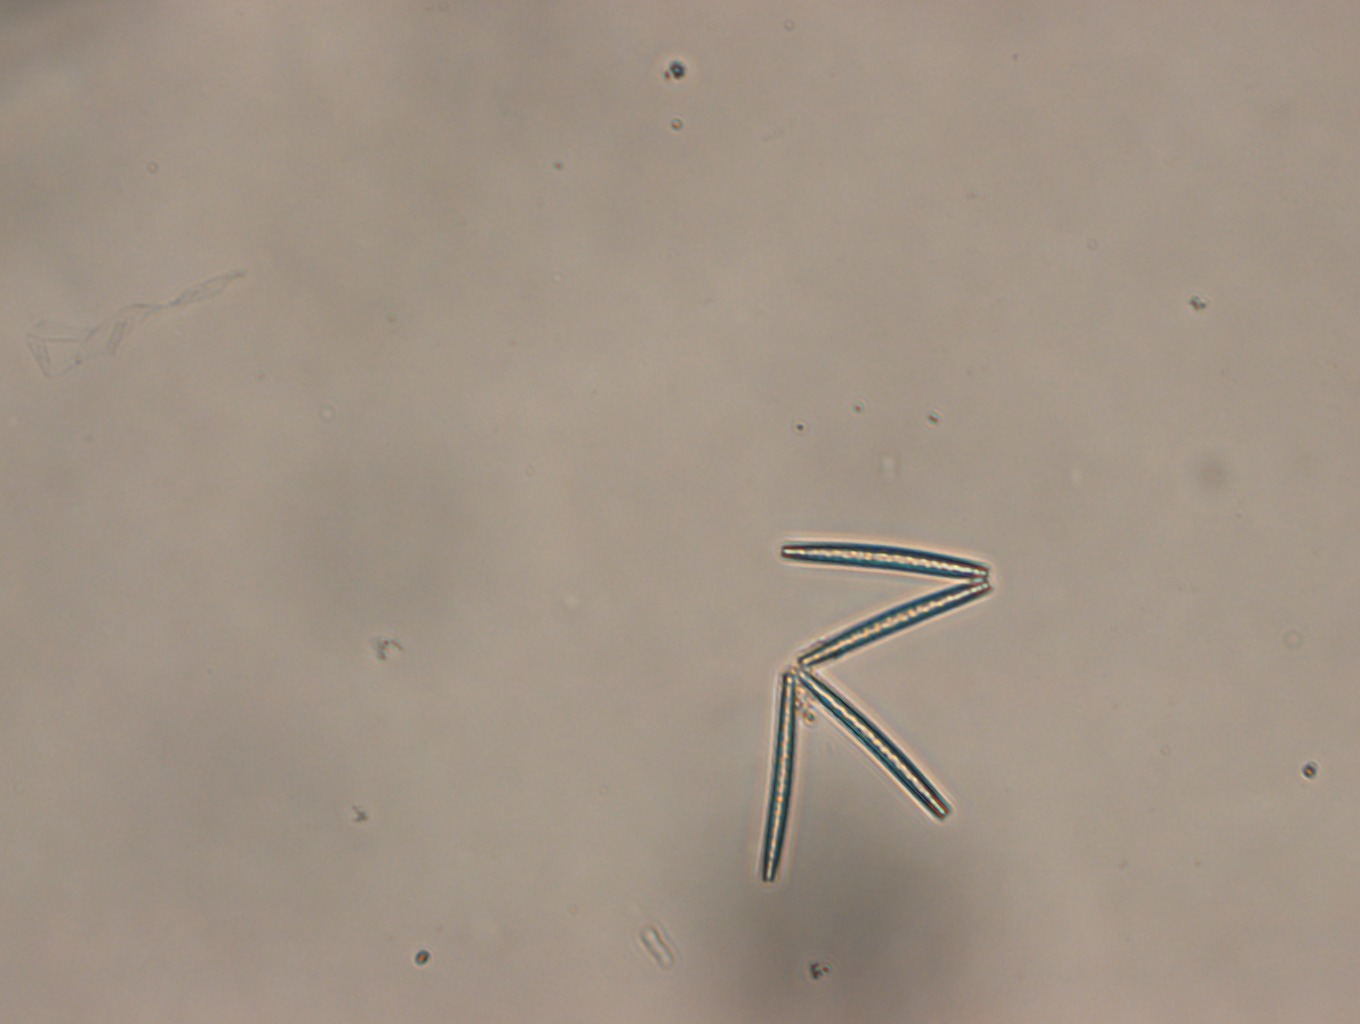thalassionema nitzschioides: (757, 541, 993, 887)
